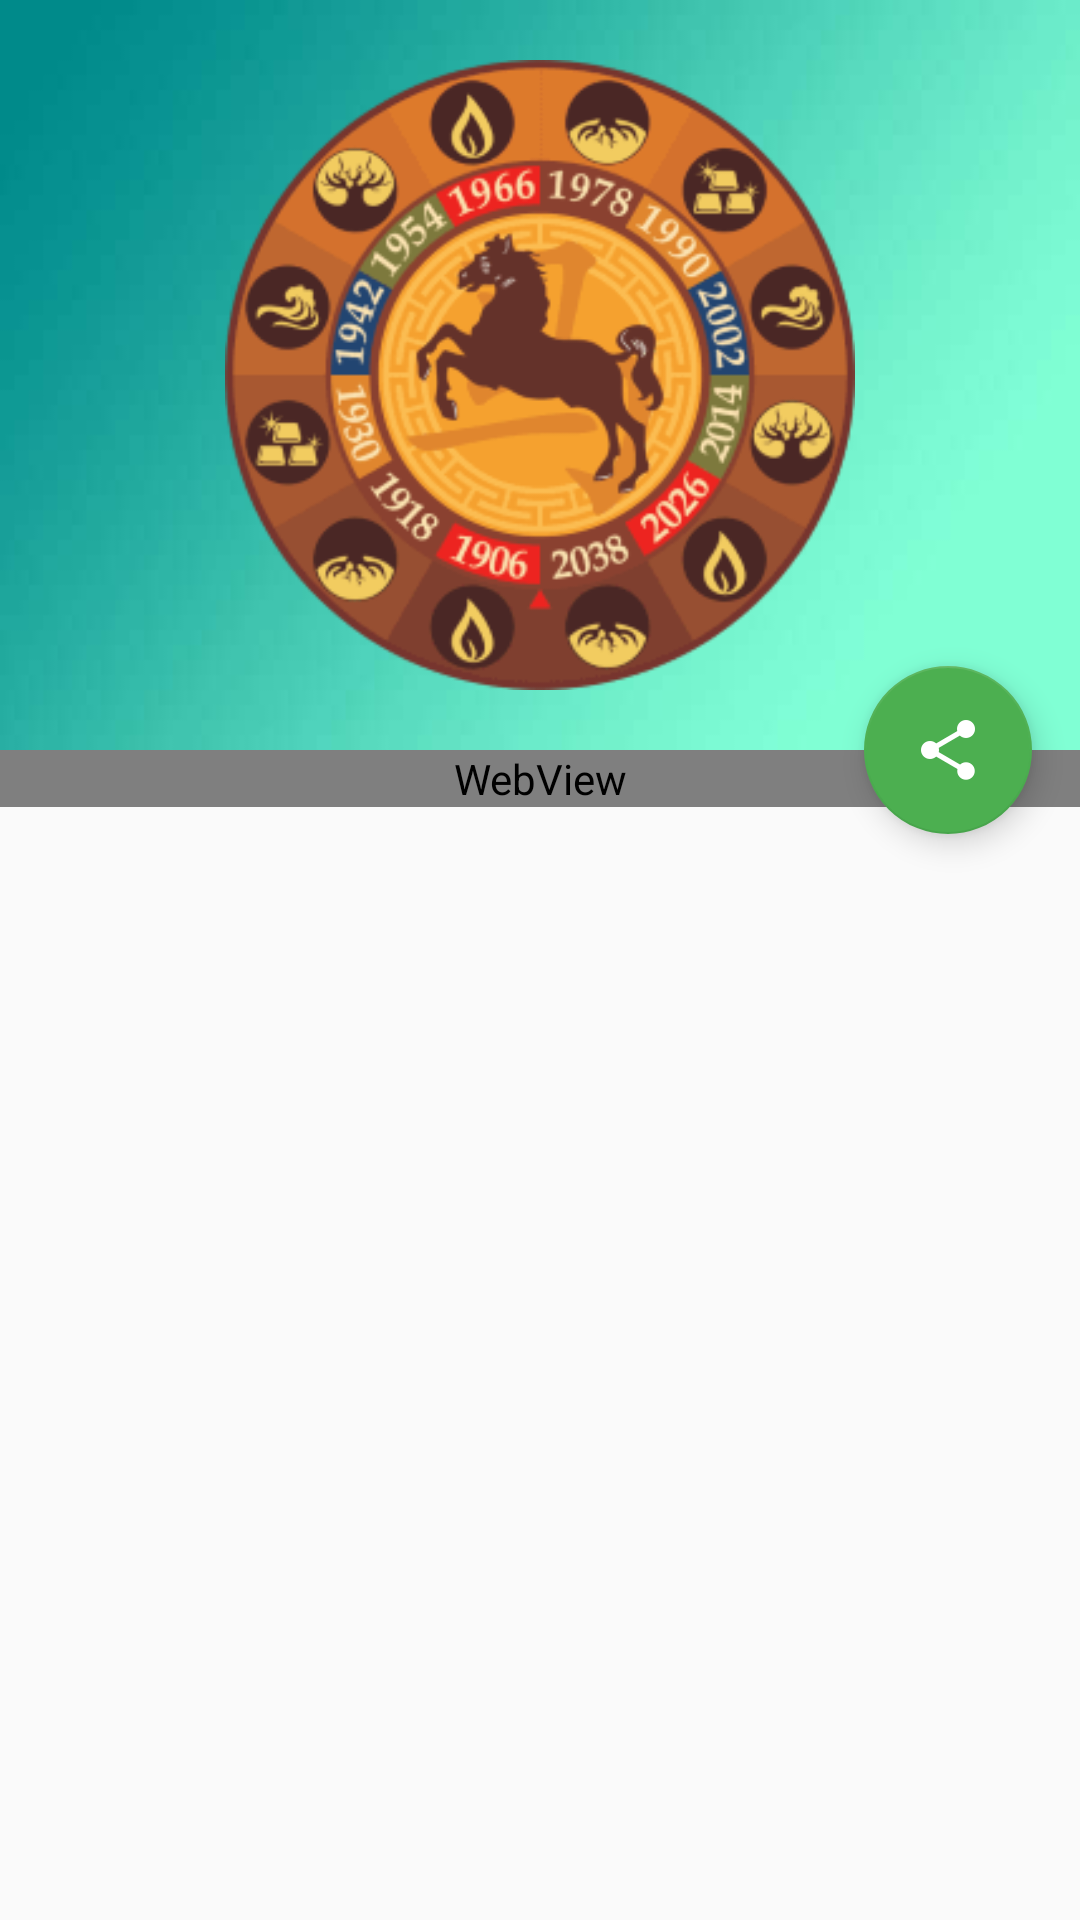

Named icons in this screenshot (1080w x 1920h) and their centers, (x=x, y=y):
share: (x=948, y=750)
